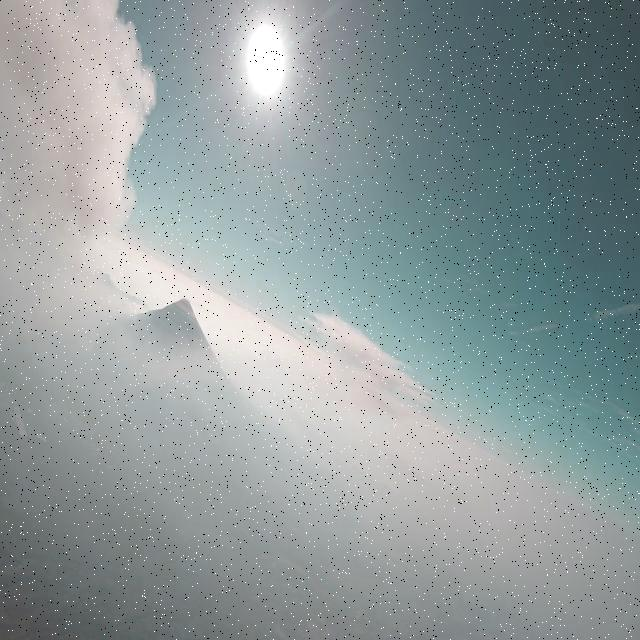Plume: (0, 0, 162, 325)
